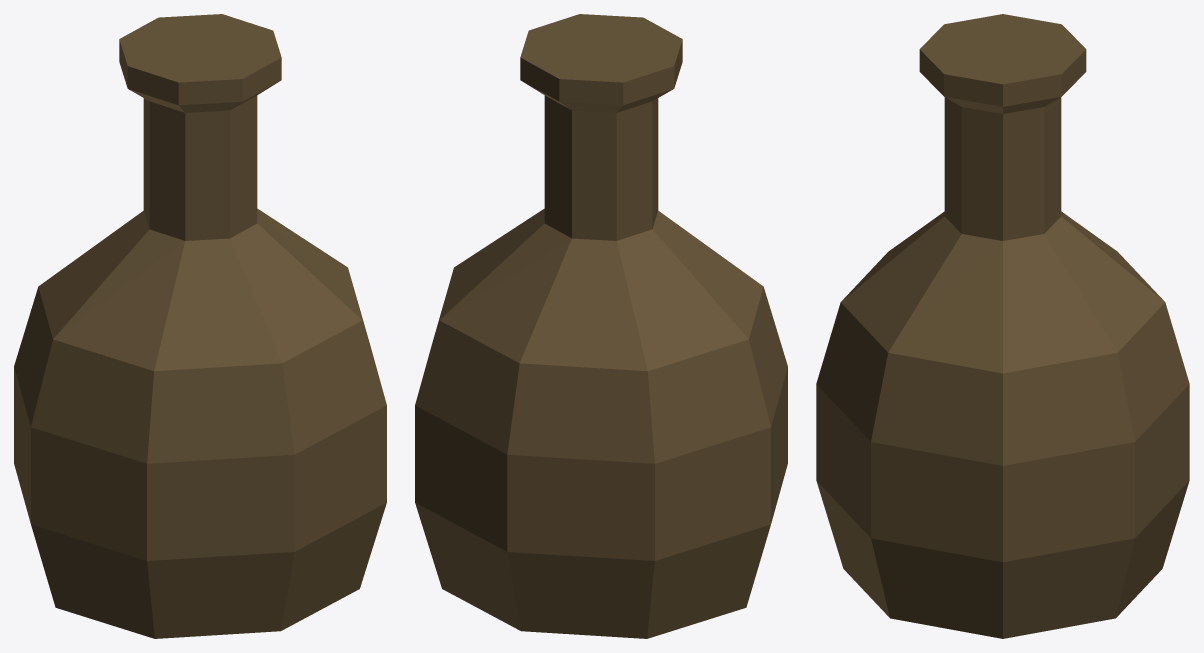
File: ITFO_WINE.OBJ
3 renders of one model, left to right at view 1: azimuth 30°, elevation 25°; view 2: azimuth 150°, elevation 25°; view 3: azimuth 270°, elevation 25°, orthographic.
Parts seen in each view (by area): view 1: ITFO_WINE; view 2: ITFO_WINE; view 3: ITFO_WINE.
Part boxes in pixels (x1,y1,x2,y2): ITFO_WINE: (14,14,386,638); ITFO_WINE: (415,14,787,638); ITFO_WINE: (816,14,1189,638).
Bounding box in the file's own units: 0.1911 × 0.2822 × 0.1838.
